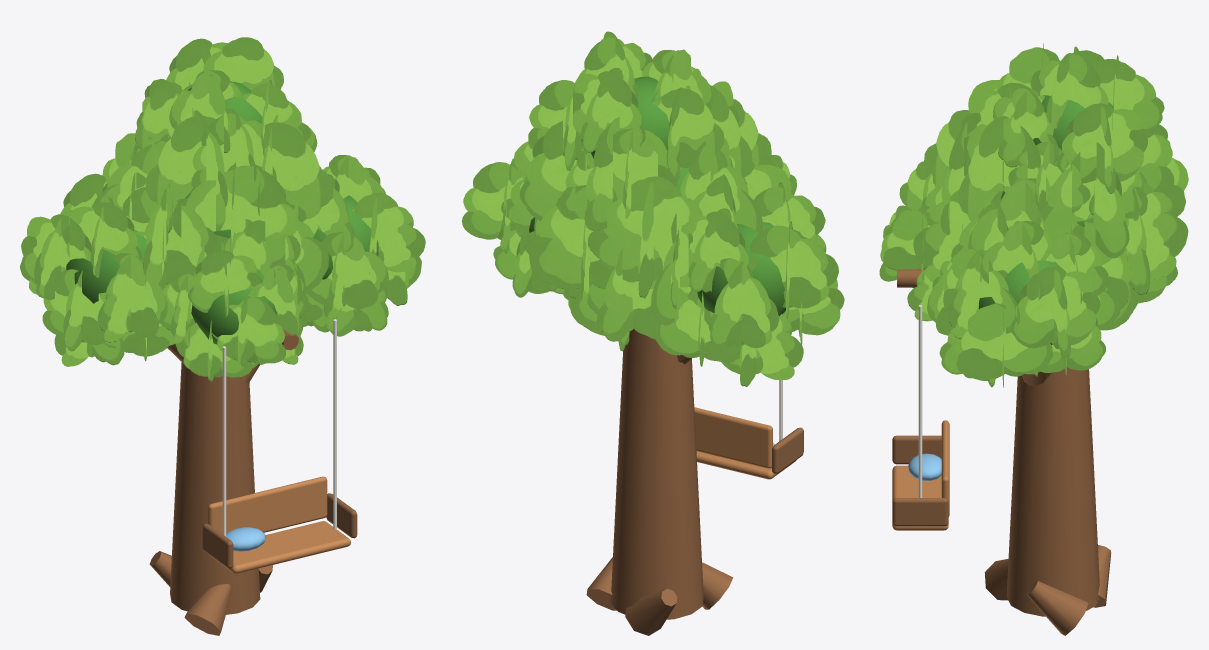
Rendered from swingtree-bench.glb.
The picture shows the model from 3 angles, left to right: view 1: azimuth 30°, elevation 25°; view 2: azimuth 150°, elevation 25°; view 3: azimuth 270°, elevation 25°; orthographic projection. The views are drawn at different scales.
Size of the model in its own units: 2.82 by 4.09 by 2.03.
16 materials, 1 textured.
